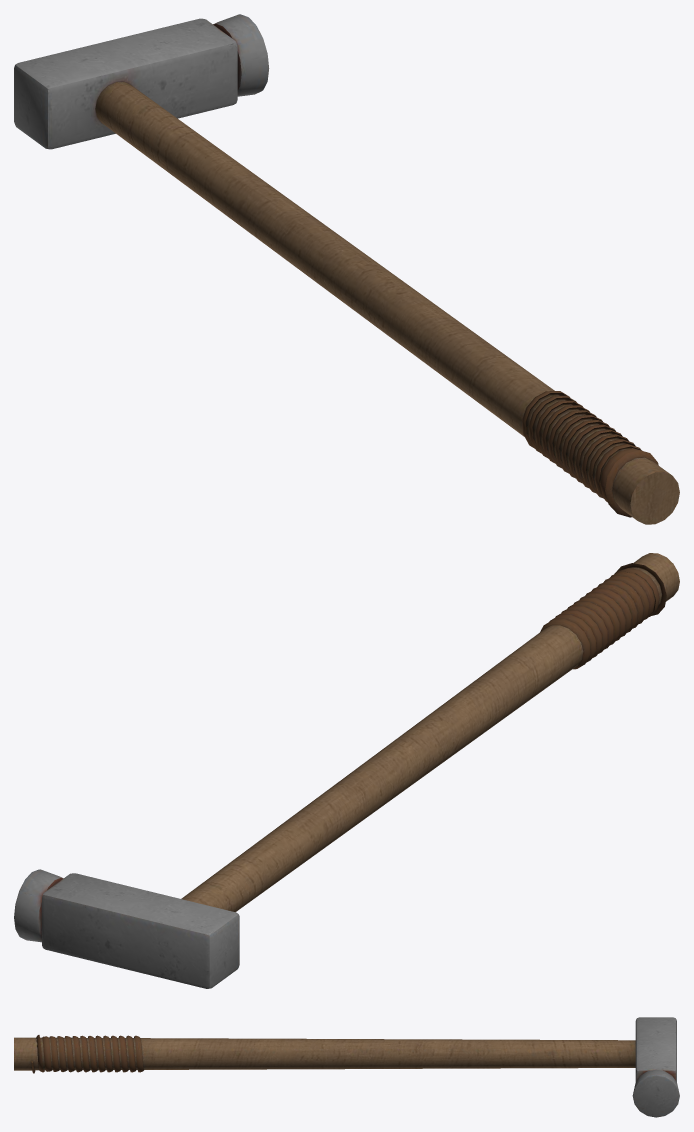
File: war_hammer.glb
3 renders of one model, top to bottom at view 1: azimuth 30°, elevation 25°; view 2: azimuth 150°, elevation 25°; view 3: azimuth 270°, elevation 25°, orthographic. The views are drawn at different scales.
Visible parts, largest first — view 1: war_hammer; view 2: war_hammer; view 3: war_hammer.
Part boxes in pixels (x1,y1,x2,y2): war_hammer: (14,14,679,524); war_hammer: (14,553,679,988); war_hammer: (14,1017,679,1117).
Size of the model in its own units: 0.16 by 0.0516 by 0.7258.
1 material, 1 textured.
